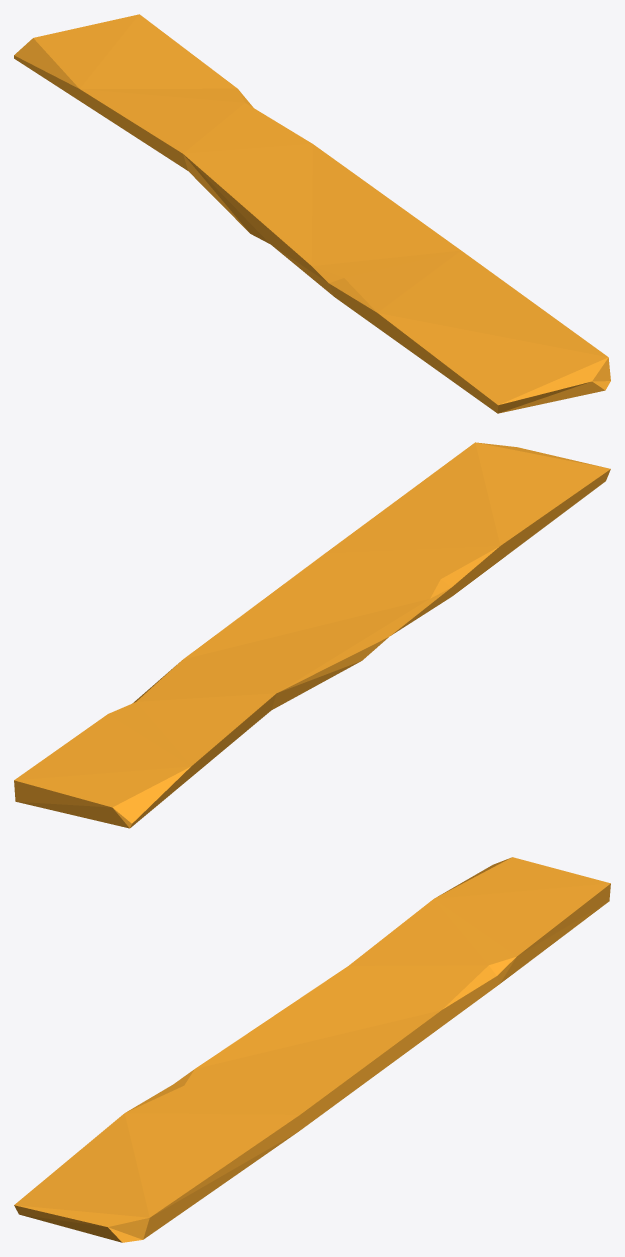
File: SM_Path_Woodplanks_Single_A_Fantasy.fbx
The picture shows the model from 3 angles, top to bottom: view 1: azimuth 30°, elevation 25°; view 2: azimuth 150°, elevation 25°; view 3: azimuth 330°, elevation 25°; orthographic projection. The views are drawn at different scales.
Parts seen in each view (by area): view 1: path-woodplanks-single-a-fantasy; view 2: path-woodplanks-single-a-fantasy; view 3: path-woodplanks-single-a-fantasy.
Boxes of the visible parts, <box> form: path-woodplanks-single-a-fantasy: <box>14,14,610,413</box>; path-woodplanks-single-a-fantasy: <box>14,442,610,828</box>; path-woodplanks-single-a-fantasy: <box>14,857,610,1242</box>.
Bounding box in the file's own units: 0.2759 × 0.0462 × 1.77.
